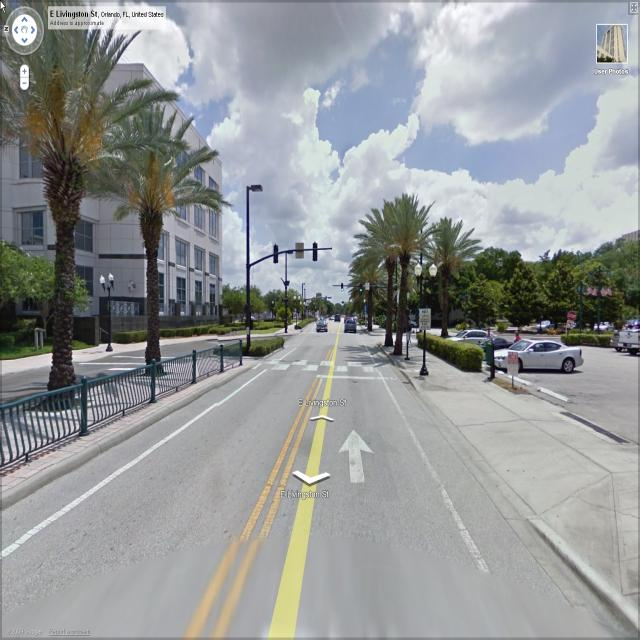b_2: (1, 35, 222, 348)
